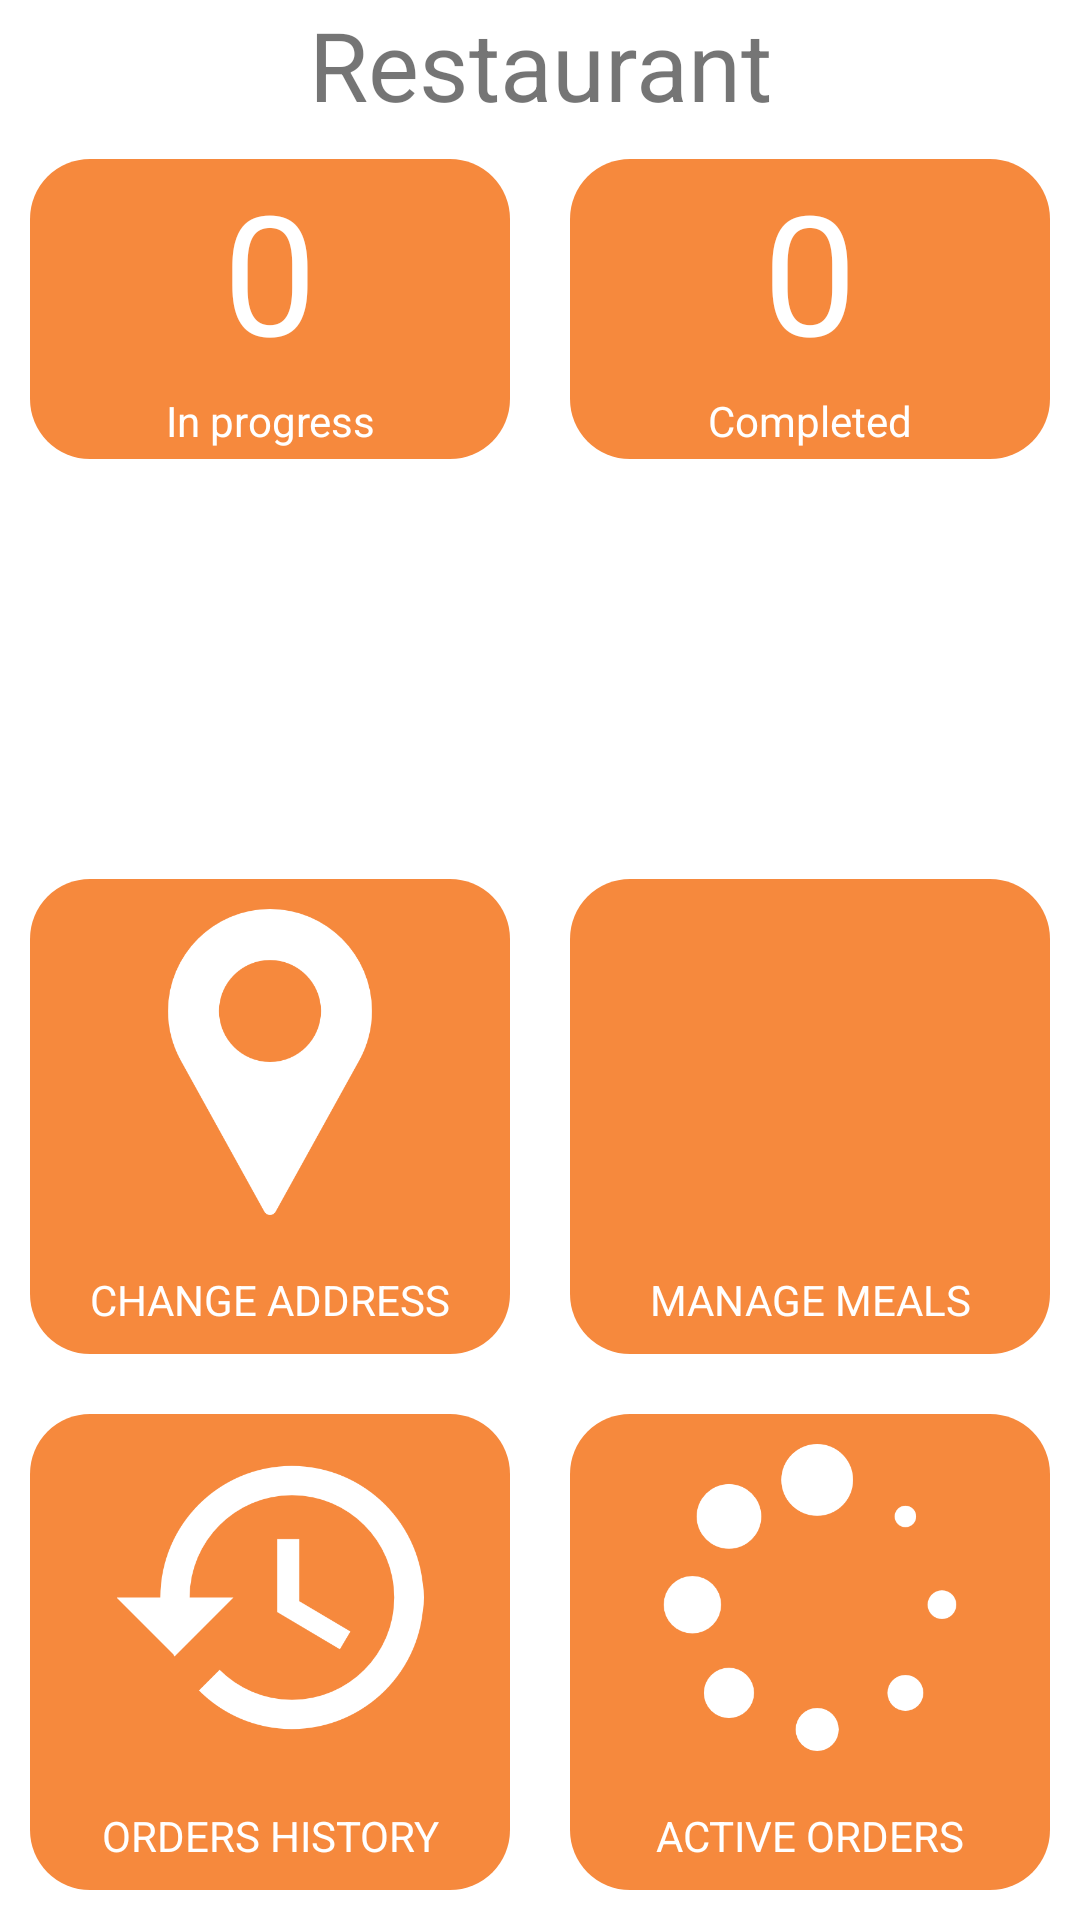

Icons on this 1080×1920 Android screen, each with its box as (x1, y1, x2, y2):
loading: (663, 1444, 957, 1751)
pin: (168, 909, 372, 1215)
